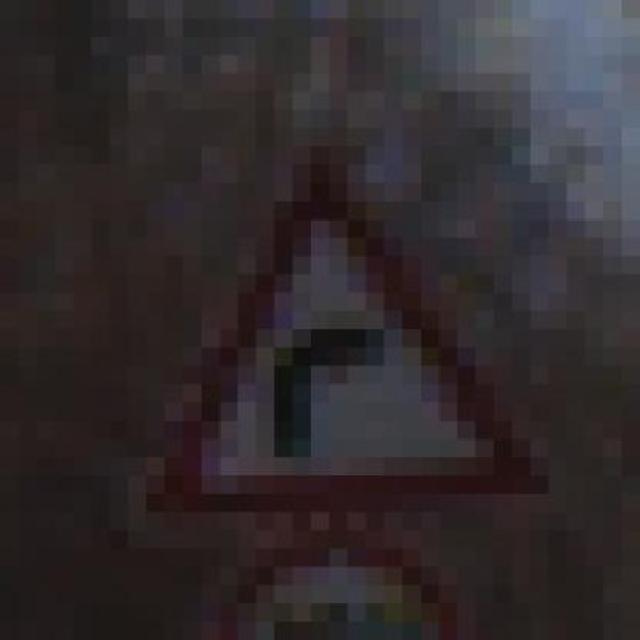Dangerous Rright Curve Ahead: (110, 128, 548, 530)
